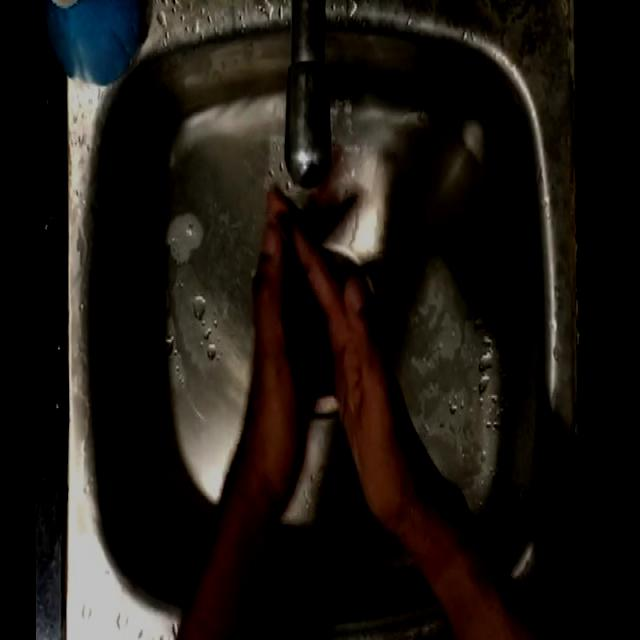step_3: (230, 144, 404, 474)
